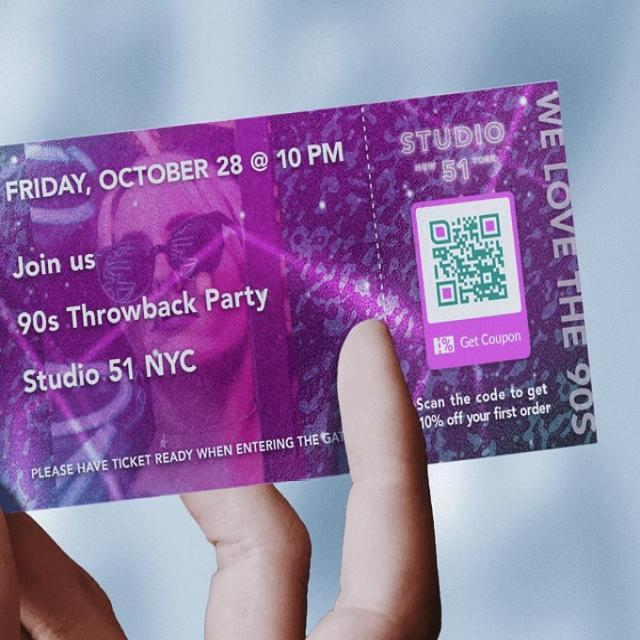qr_code: (428, 214, 508, 306)
